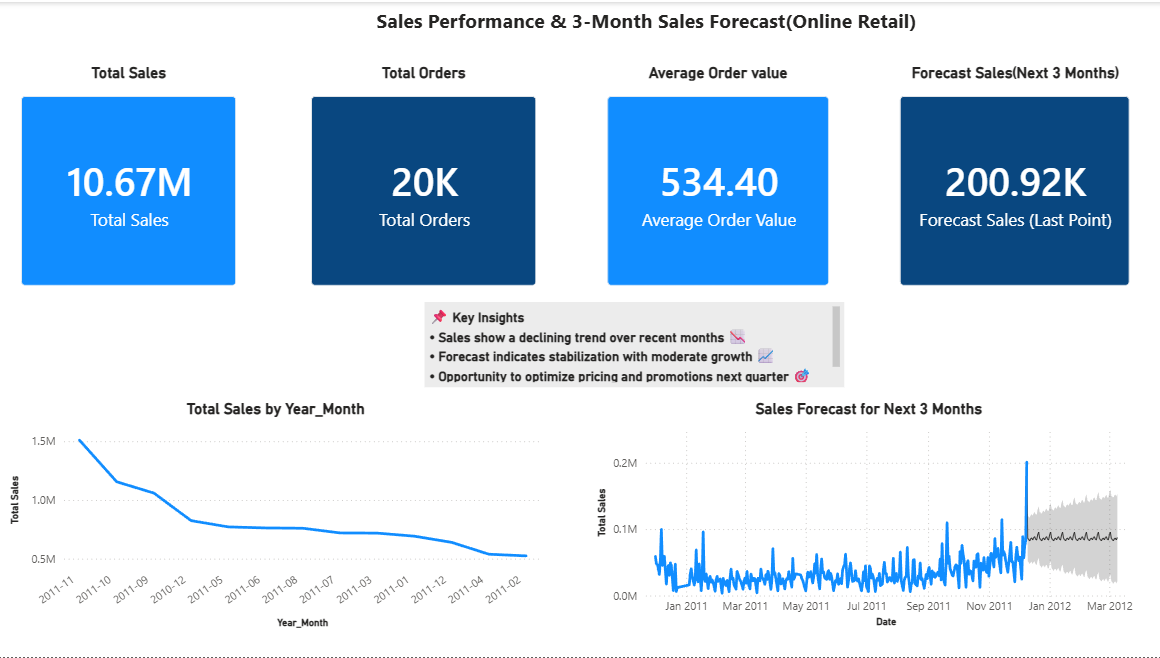

This screenshot's page, from the dashboard's own definition file:
{"tool":"powerbi","page":{"name":"Page 4","canvas":[1280,720],"ordinal":3},"visuals":[{"type":"lineChart","title":"Sales Forecast for Next 3 Months","fields":{"Category":["Calender.Date"],"Y":["Online Retail.Total Sales"]},"box":[653.2,436.4,607.9,255.2],"z":0},{"type":"lineChart","fields":{"Y":["Online Retail.Total Sales"],"Category":["Calender.Year_Month"]},"box":[9.6,436.4,592.8,256.6],"z":1000},{"type":"cardVisual","title":"Total Sales","fields":{"Data":["Online Retail.Total Sales"]},"box":[9.6,67.2,270.3,262.1],"z":2000},{"type":"cardVisual","title":"Average Order value","fields":{"Data":["Online Retail.Average Order Value"]},"box":[653.2,67.2,277.2,262.1],"z":3000},{"type":"cardVisual","title":"Forecast Sales(Next 3 Months)","fields":{"Data":["Online Retail.Forecast Sales (Last Point)"]},"box":[974.3,67.2,286.8,262.1],"z":4000},{"type":"cardVisual","title":"Total Orders","fields":{"Data":["Online Retail.Total Orders"]},"box":[328,67.2,281.3,262.1],"z":5000},{"type":"textbox","box":[411.7,0,730,43.9],"z":6000},{"type":"textbox","box":[469.3,329.3,461.1,93.3],"z":7000}]}

Visuals, with their boxes in screenshot pixels (x1, y1, x2, y2), scaled from the page's 1280x720 canvas onto the 1160x658 screenshot:
"Sales Forecast for Next 3 Months" lineChart: 592,399,1143,632
lineChart - Online Retail.Total Sales x Calender.Year_Month: 9,399,546,633
"Total Sales" cardVisual: 9,61,254,301
"Average Order value" cardVisual: 592,61,843,301
"Forecast Sales(Next 3 Months)" cardVisual: 883,61,1143,301
"Total Orders" cardVisual: 297,61,552,301
textbox: 373,0,1035,40
textbox: 425,301,843,386
